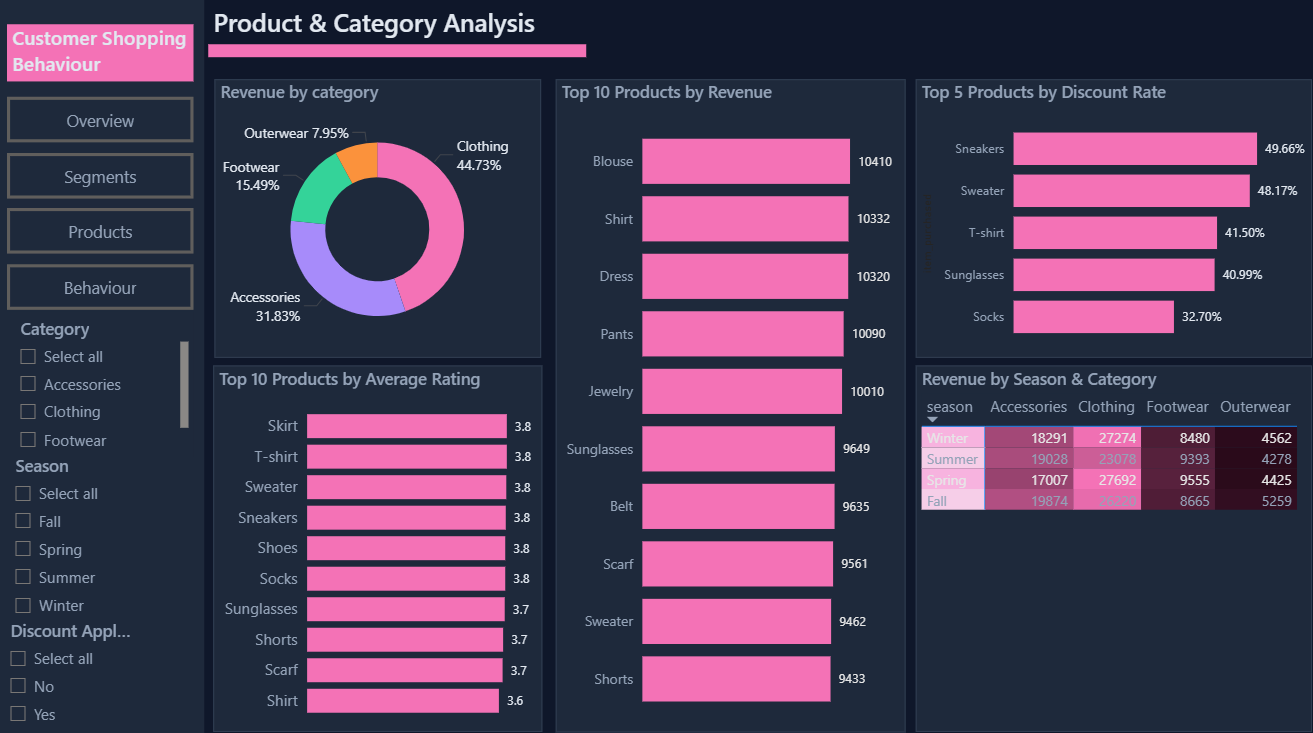

The dashboard page shown, as its layout file describes it:
{"tool":"powerbi","page":{"name":"Products","canvas":[1280,720],"ordinal":2},"visuals":[{"type":"textbox","box":[0,0,200,720],"z":0},{"type":"actionButton","title":"Overview","box":[10,100,180,44],"z":1000},{"type":"actionButton","title":"Segments","box":[10,154,180,44],"z":2000},{"type":"actionButton","title":"Products","box":[10,208,180,44],"z":3000},{"type":"actionButton","title":"Behaviour","box":[10,262,180,44],"z":4000},{"type":"textbox","title":"Customer Shopping Behaviour","box":[9.7,30.2,179.8,55.5],"z":5000},{"type":"clusteredBarChart","title":"Top 10 Products by Average Rating","fields":{"Y":["_Measures (3).Avg Rating"],"Category":["customer_behaviour customer.item_purchased"]},"box":[208.8,360,317.5,353.8],"z":6000},{"type":"clusteredBarChart","title":"Top 5 Products by Discount Rate","fields":{"Category":["customer_behaviour customer.item_purchased"],"Y":["_Measures (3).Discount Rate by Segment %"]},"box":[886.2,83.8,382.5,268.8],"z":7000},{"type":"donutChart","title":"Revenue by category","fields":{"Category":["customer_behaviour customer.category"],"Y":["_Measures (3).Total Revenue"]},"box":[210,83.8,315,268.8],"z":9000},{"type":"pivotTable","title":"Revenue by Season & Category","fields":{"Rows":["customer_behaviour customer.season"],"Columns":["customer_behaviour customer.category"],"Values":["_Measures (3).Total Revenue"]},"box":[886.2,360,382.5,353.8],"z":10000},{"type":"slicer","fields":{"Values":["customer_behaviour customer.category"]},"box":[10,307.8,180,140],"z":11000},{"type":"slicer","fields":{"Values":["customer_behaviour customer.season"]},"box":[4.4,440,175.6,168.9],"z":12000},{"type":"slicer","fields":{"Values":["customer_behaviour customer.discount_applied"]},"box":[0,600,150,120],"z":13000},{"type":"shape","box":[203.8,50,365,12.5],"z":14000},{"type":"textbox","box":[203.8,7.5,365,55],"z":15000},{"type":"clusteredBarChart","title":"Top 10 Products by Revenue","fields":{"Category":["customer_behaviour customer.item_purchased"],"Y":["_Measures (3).Total Revenue"]},"box":[538.8,83.8,337.5,630],"z":15001}]}

Visuals, with their boxes in screenshot pixels (x1, y1, x2, y2), scaled from the page's 1280x720 canvas onto the 1313x733 screenshot:
textbox: 0/0/205/732
"Overview" actionButton: 10/102/195/147
"Segments" actionButton: 10/157/195/202
"Products" actionButton: 10/212/195/257
"Behaviour" actionButton: 10/267/195/312
"Customer Shopping Behaviour" textbox: 10/31/194/87
"Top 10 Products by Average Rating" clusteredBarChart: 214/366/540/727
"Top 5 Products by Discount Rate" clusteredBarChart: 909/85/1301/359
"Revenue by category" donutChart: 215/85/539/359
"Revenue by Season & Category" pivotTable: 909/366/1301/727
slicer - customer_behaviour customer.category: 10/313/195/456
slicer - customer_behaviour customer.season: 5/448/185/620
slicer - customer_behaviour customer.discount_applied: 0/611/154/732
shape: 209/51/583/64
textbox: 209/8/583/64
"Top 10 Products by Revenue" clusteredBarChart: 553/85/899/727
